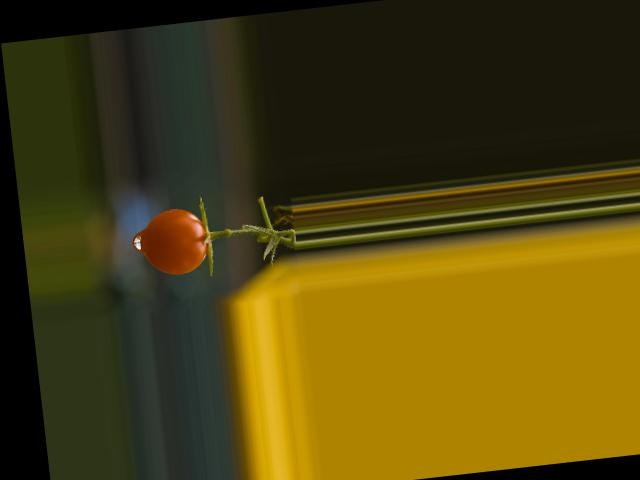tomato: (139, 204, 211, 277)
